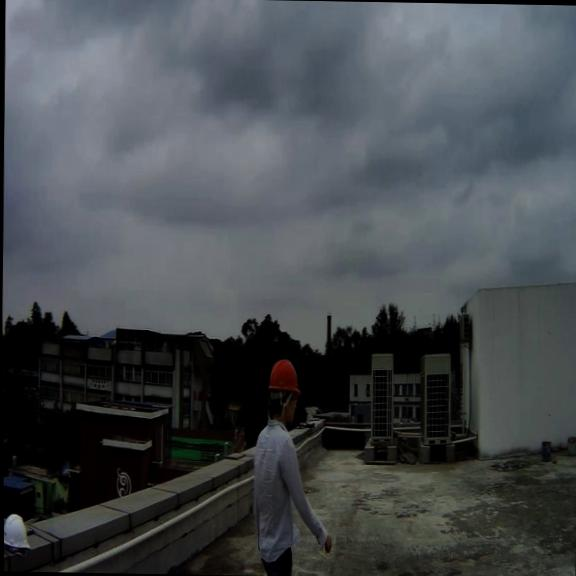no_safety_vest: (250, 416, 297, 576)
